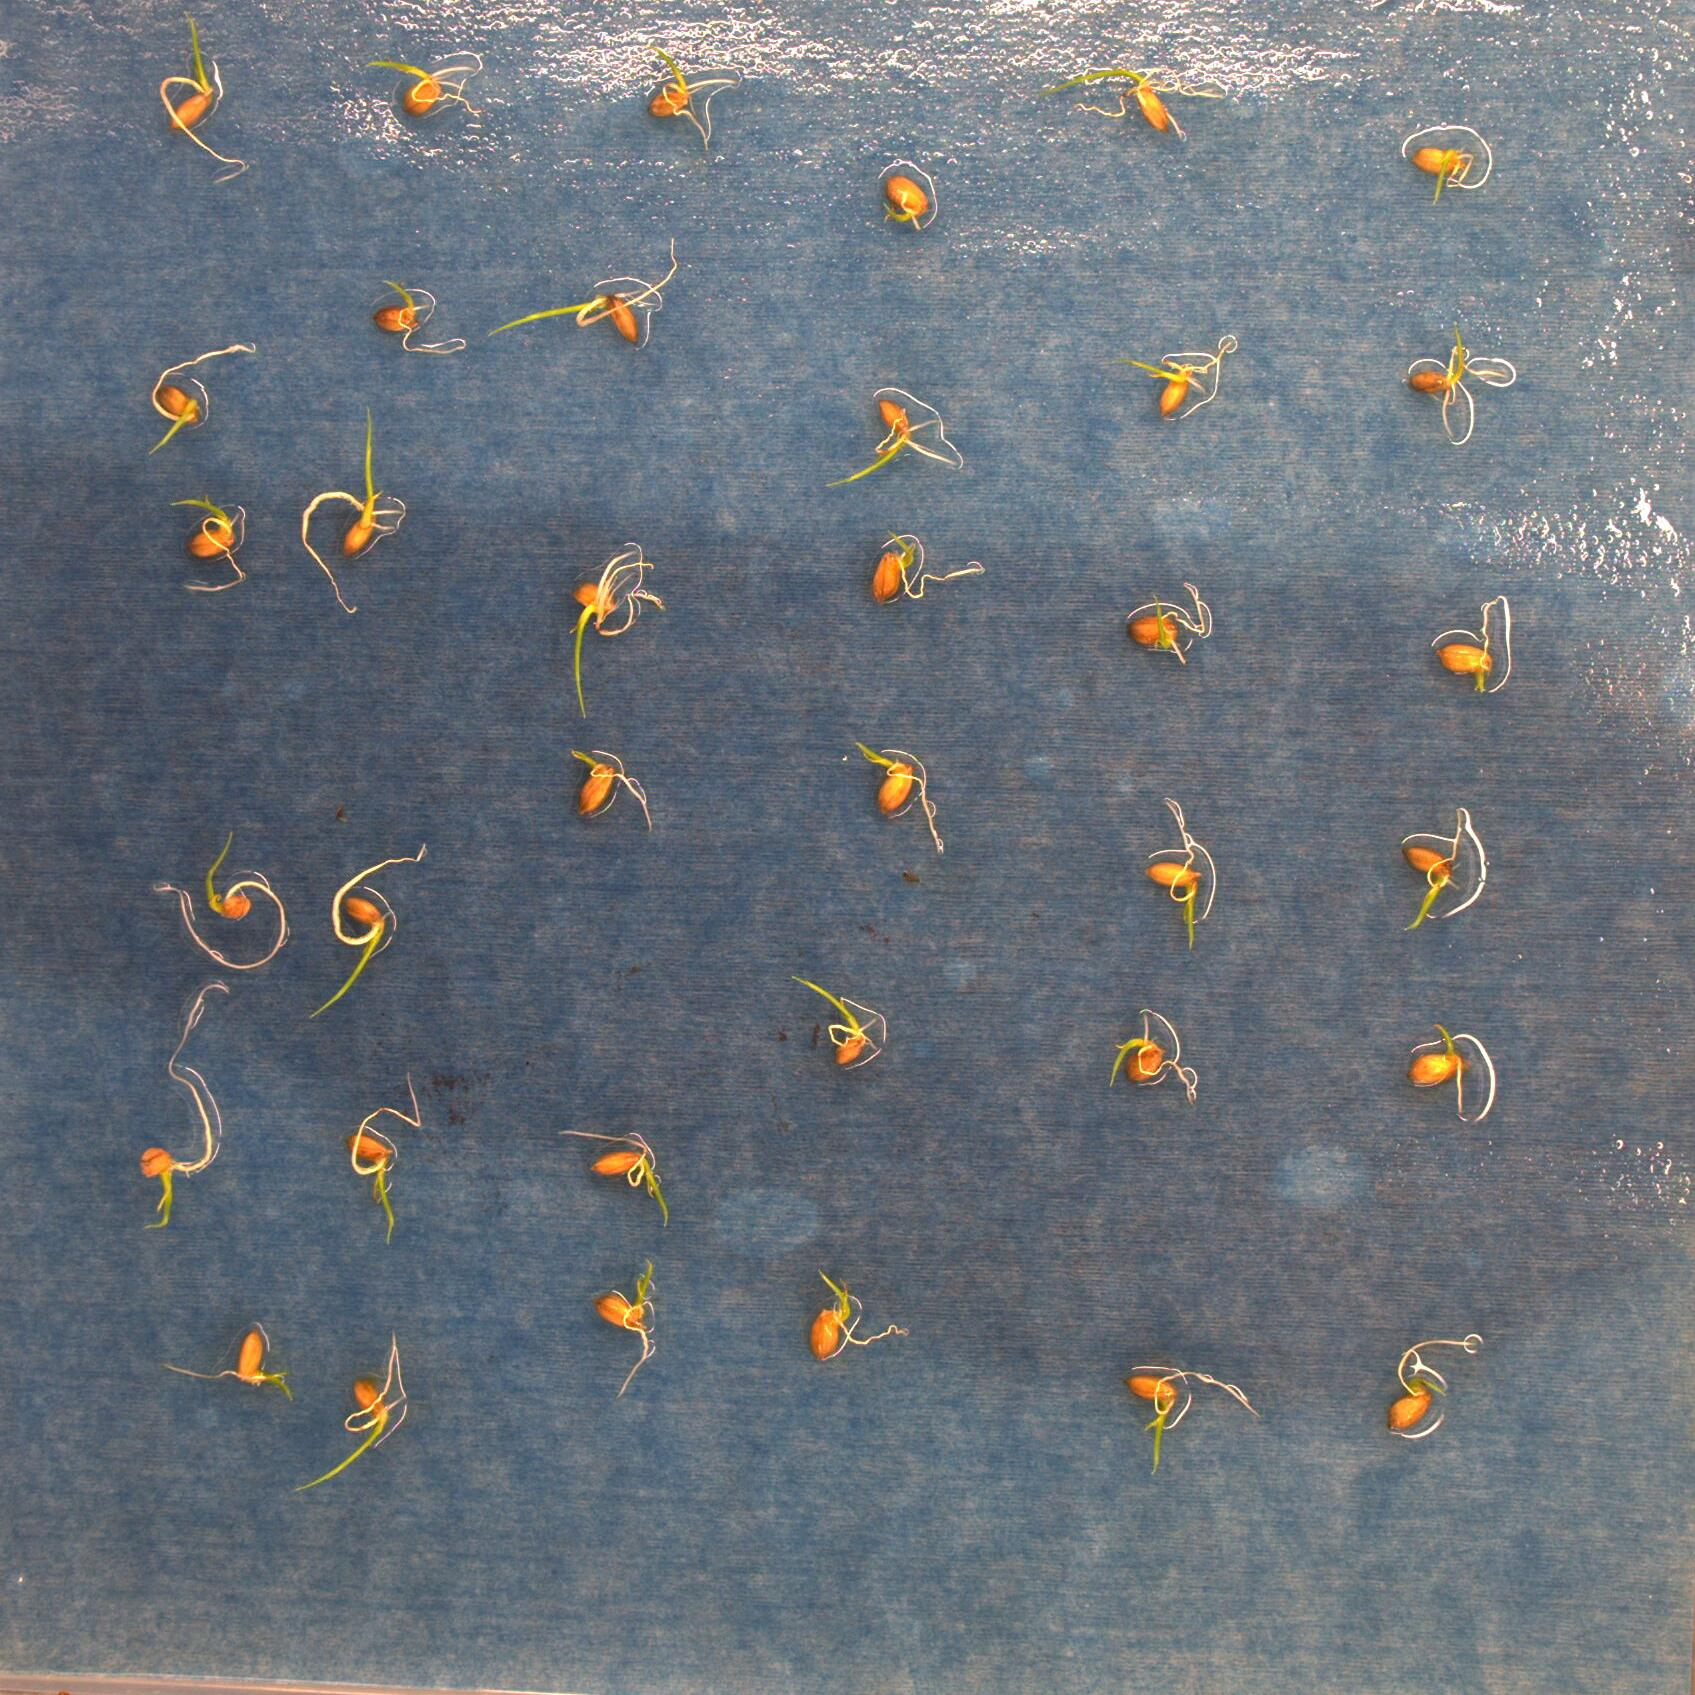sprout: (133, 976, 237, 1237), (307, 837, 433, 1023), (292, 404, 400, 618), (480, 237, 683, 345), (562, 529, 669, 723), (290, 1333, 418, 1496), (151, 832, 289, 972), (152, 12, 251, 185), (1124, 1360, 1262, 1475), (341, 1068, 428, 1245), (140, 335, 261, 458), (551, 1121, 674, 1236), (820, 396, 955, 497), (1042, 61, 1187, 147), (1402, 338, 1512, 442), (1142, 795, 1215, 951), (793, 1268, 916, 1361), (851, 737, 947, 854), (158, 1329, 296, 1405), (1385, 1330, 1479, 1437), (1122, 331, 1234, 421), (782, 972, 885, 1069), (863, 529, 990, 607), (1104, 1007, 1203, 1104), (1402, 1018, 1489, 1125), (596, 1254, 661, 1397), (362, 275, 469, 360), (359, 50, 483, 123), (560, 744, 658, 834), (1430, 601, 1512, 702), (1394, 821, 1465, 934), (643, 45, 716, 152), (1122, 584, 1218, 664), (171, 492, 244, 594), (1411, 140, 1468, 210), (883, 172, 927, 234)
